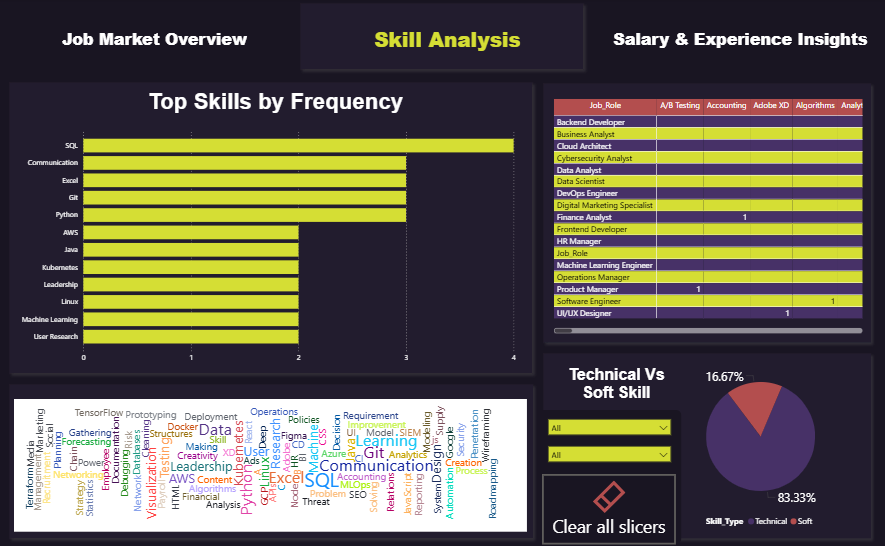

The page's visual inventory and layout, read from the dashboard file:
{"tool":"powerbi","page":{"name":"Skill Analysis","canvas":[1480,920],"ordinal":1},"visuals":[{"type":"shape","box":[493.5,0,491.8,128.8],"z":0},{"type":"pageNavigator","box":[18,18,1462,98],"z":1000},{"type":"shape","box":[6.7,132.3,893.2,505.2],"z":2000},{"type":"shape","box":[6,637.5,894,276],"z":3000},{"type":"shape","box":[900,133.5,566,452],"z":4000},{"type":"shape","box":[900,585.5,566,328],"z":5000},{"type":"WordCloud1447959067750","fields":{"Category":["Skills_Mapping.Skill"],"Values":["CountNonNull(Skills_Mapping.Skill)"]},"box":[24,671.5,858,222],"z":6000},{"type":"clusteredBarChart","fields":{"Category":["Skills_Mapping.Skill"],"Y":["CountNonNull(Skills_Mapping.Skill)"]},"box":[23.4,210.9,844.7,408.1],"z":7000},{"type":"pivotTable","fields":{"Rows":["Skills_Mapping.Job_Role"],"Columns":["Skills_Mapping.Skill"],"Values":["CountNonNull(Skills_Mapping.Skill)"]},"box":[922,163.5,526,402],"z":8000},{"type":"pieChart","fields":{"Category":["Skills_Mapping.Skill_Type"],"Y":["CountNonNull(Skills_Mapping.Skill)"]},"box":[1098,601.5,350,292],"z":9000},{"type":"shape","box":[900,689.5,240,224],"z":10000},{"type":"slicer","fields":{"Values":["Job_Market_corrected.Job_Role"]},"box":[906,693.5,226,54],"z":11000},{"type":"slicer","fields":{"Values":["Skills_Mapping.Skill_Type"]},"box":[906,739.5,226,54],"z":12000},{"type":"actionButton","box":[906,795.5,224,118],"z":13000},{"type":"textbox","box":[23.2,140.9,875.8,69.5],"z":14000},{"type":"textbox","box":[922.1,601.9,218.9,88.4],"z":15000}]}

Visuals, with their boxes in screenshot pixels (x1, y1, x2, y2), scaled from the page's 1480x920 canvas onto the 885x546 screenshot:
shape: 295,0,589,76
pageNavigator: 11,11,884,69
shape: 4,79,538,378
shape: 4,378,538,542
shape: 538,79,877,347
shape: 538,347,877,542
WordCloud1447959067750 - Skills_Mapping.Skill x CountNonNull(Skills_Mapping.Skill): 14,399,527,530
clusteredBarChart - Skills_Mapping.Skill x CountNonNull(Skills_Mapping.Skill): 14,125,519,367
pivotTable - Skills_Mapping.Job_Role x Skills_Mapping.Skill: 551,97,866,336
pieChart - Skills_Mapping.Skill_Type x CountNonNull(Skills_Mapping.Skill): 657,357,866,530
shape: 538,409,682,542
slicer - Job_Market_corrected.Job_Role: 542,412,677,444
slicer - Skills_Mapping.Skill_Type: 542,439,677,471
actionButton: 542,472,676,542
textbox: 14,84,538,125
textbox: 551,357,682,410
